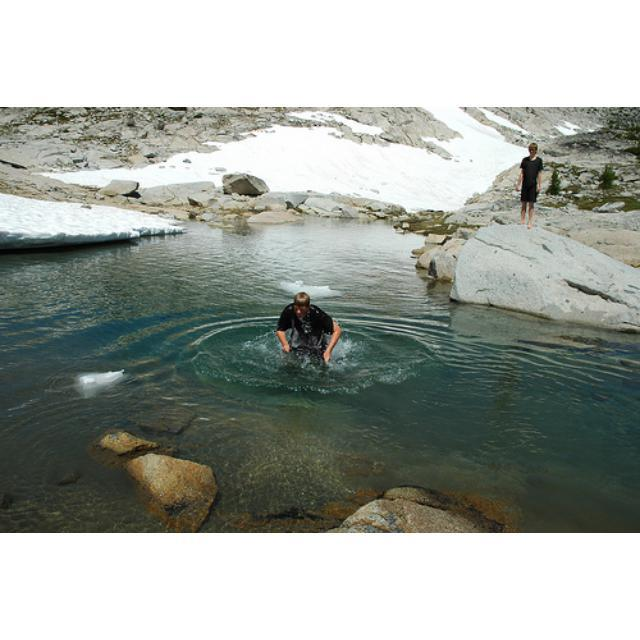human: (273, 291, 343, 360)
